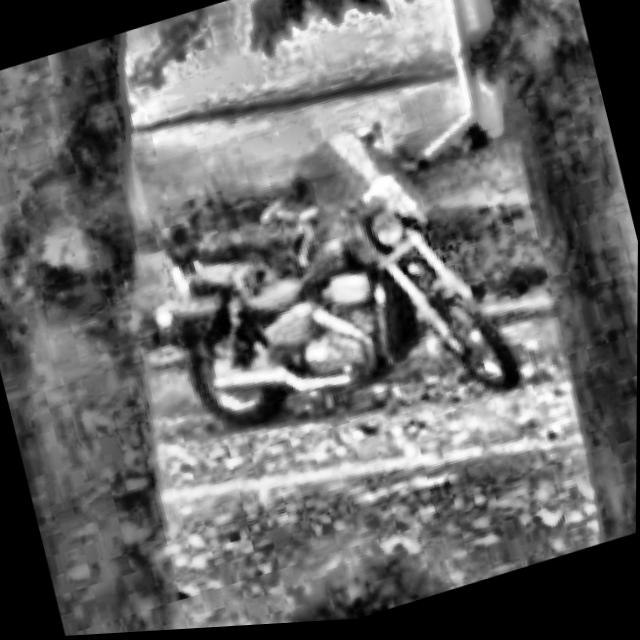motorcycle: (92, 89, 555, 501)
